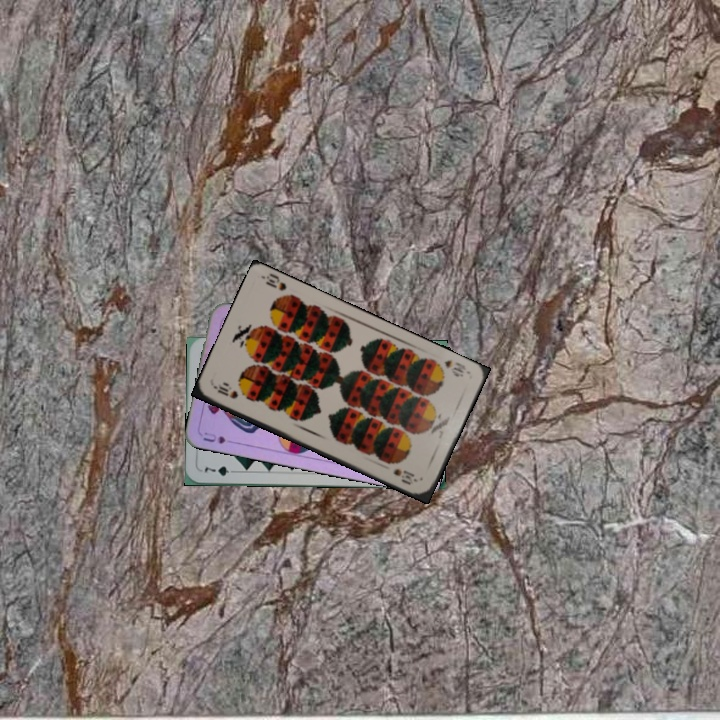G7: (200, 462, 240, 478)
S10: (440, 355, 469, 380), (211, 382, 241, 401)
SU: (199, 428, 239, 446)
